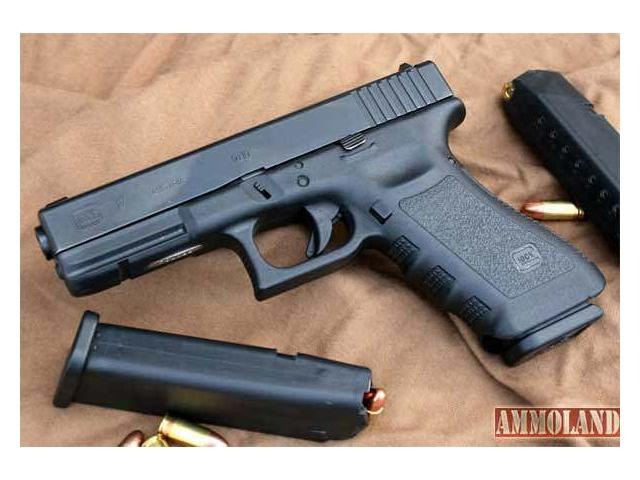pistol: (33, 55, 606, 364)
